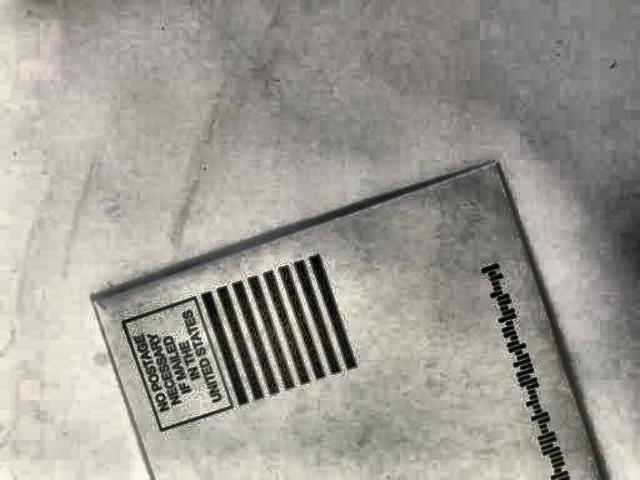Paper: (83, 159, 611, 480)
